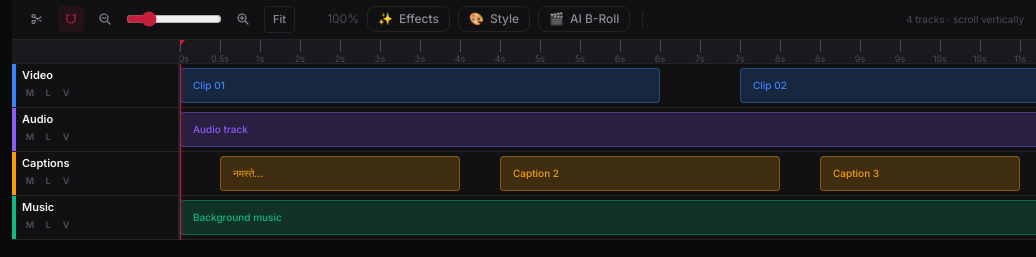
Scenario: Timeline — clip rendering › right-clicking a clip shows context menu
The width and height of the screenshot is (1036, 257).
Right-click the element with test id "clip-v1" at coordinates (420, 85), box [180,68,660,102]
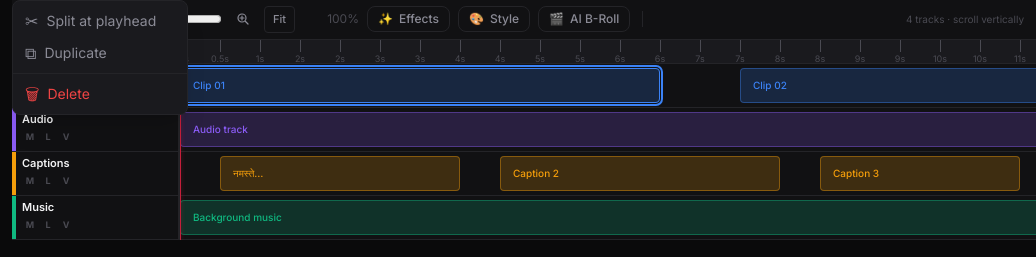
Expected: the element with test id "clip-v1-context-menu" is shown, [12,0,188,115]
